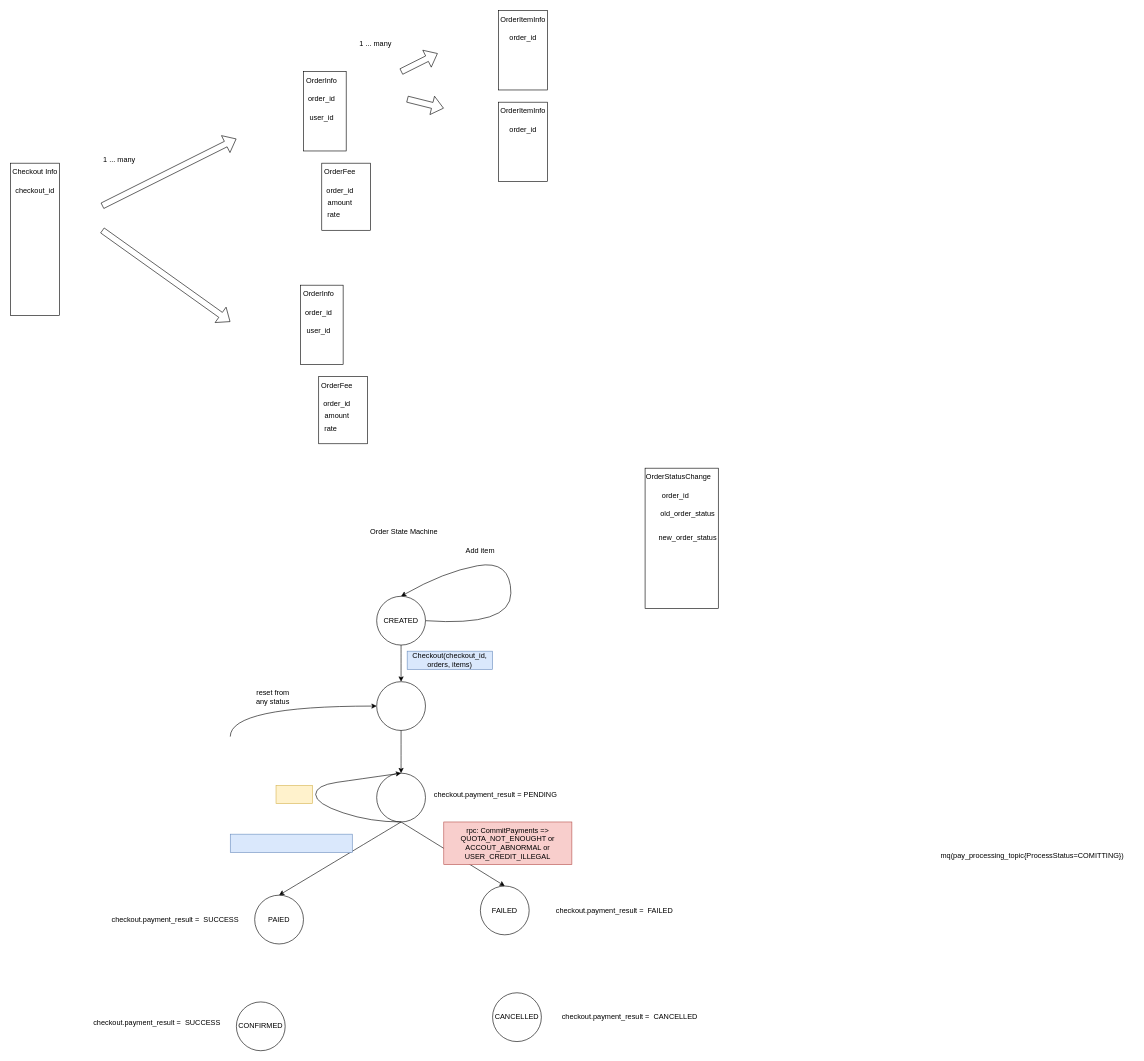
Image size: 1144x1061. Some labels were removed from this diagram. Here are the shapes that lost their labels. From the top down, the centre of each, then its label:
At pixel 400 705: "NONE".
At pixel 294 794: "timeout".
At pixel 400 797: "UNPAIED".
At pixel 291 843: "rpc: CommitPayments => SUCCESS".
